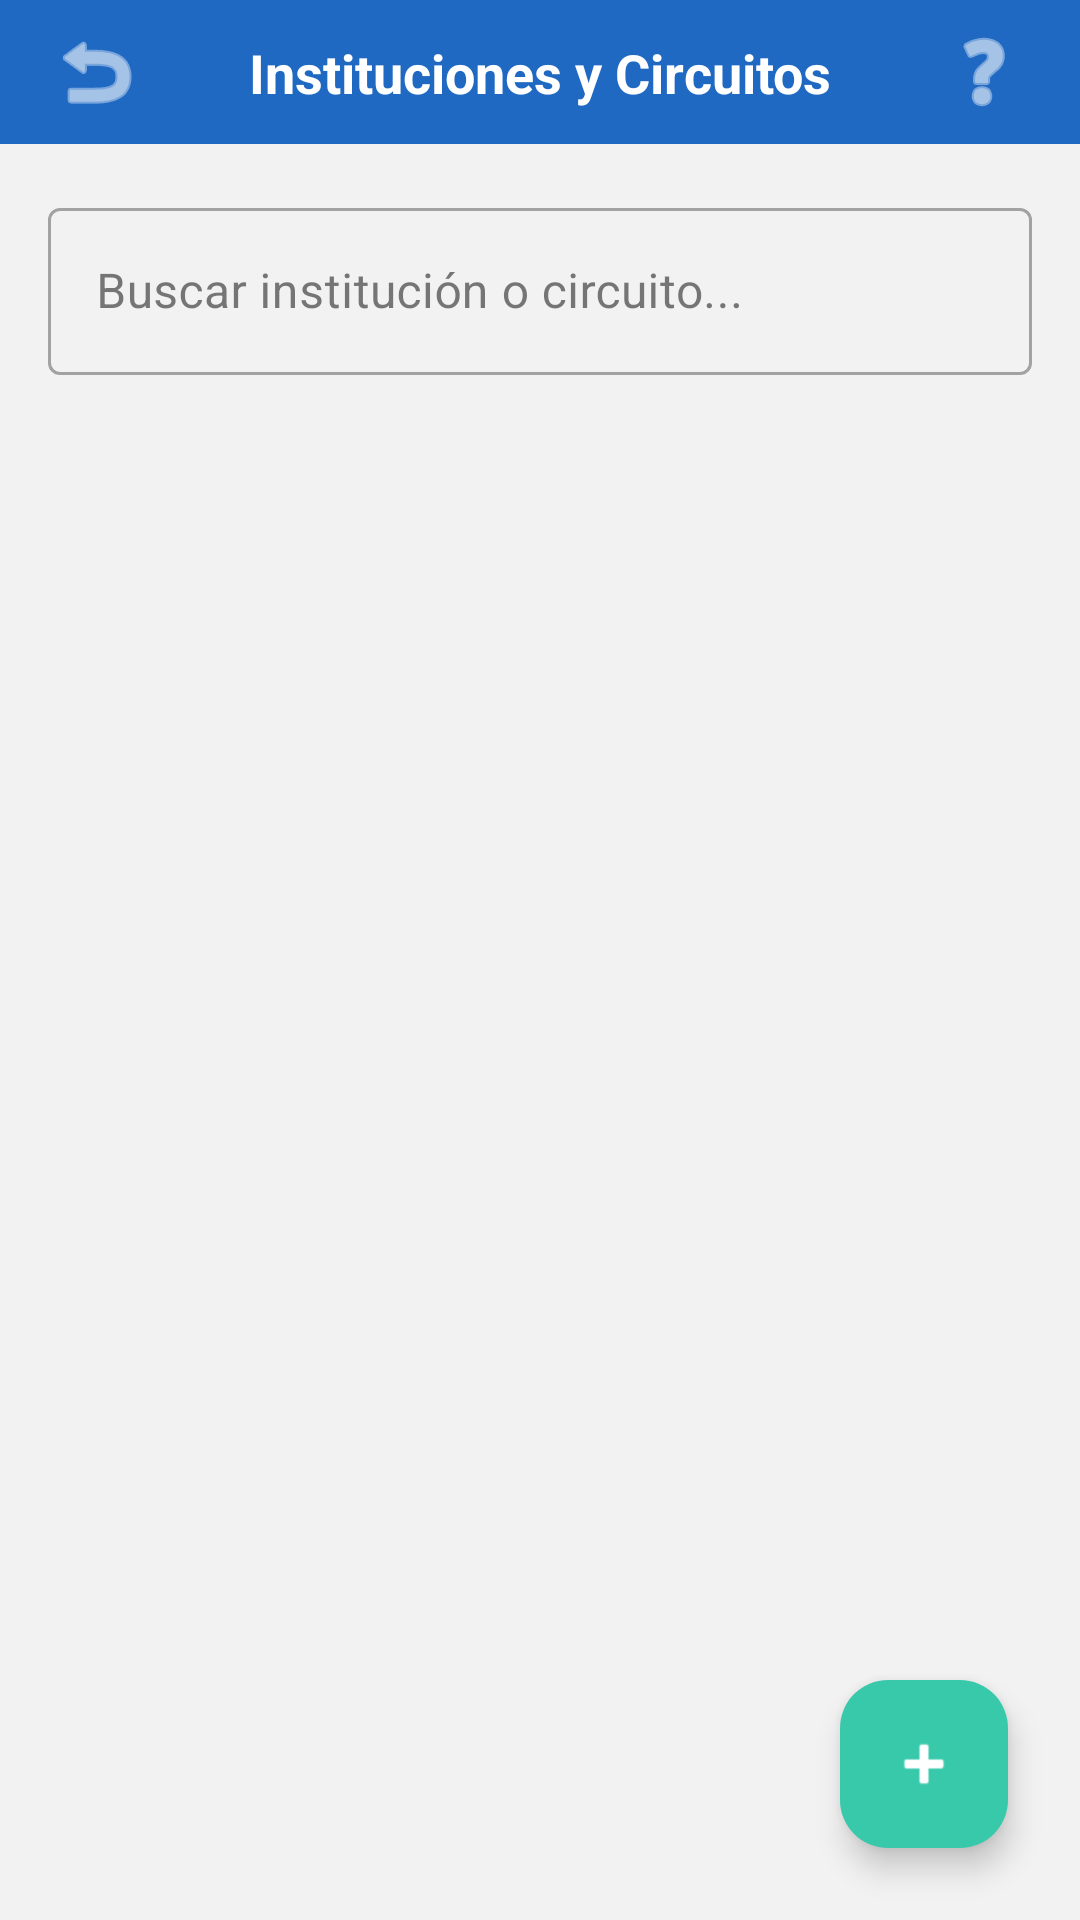

Named icons in this screenshot (1080x1920) and their centers, (x=x, y=y):
Agregar Institución: (x=924, y=1764)
Atrás: (x=97, y=72)
Guía de Uso - DECE Gestión: (x=984, y=72)
